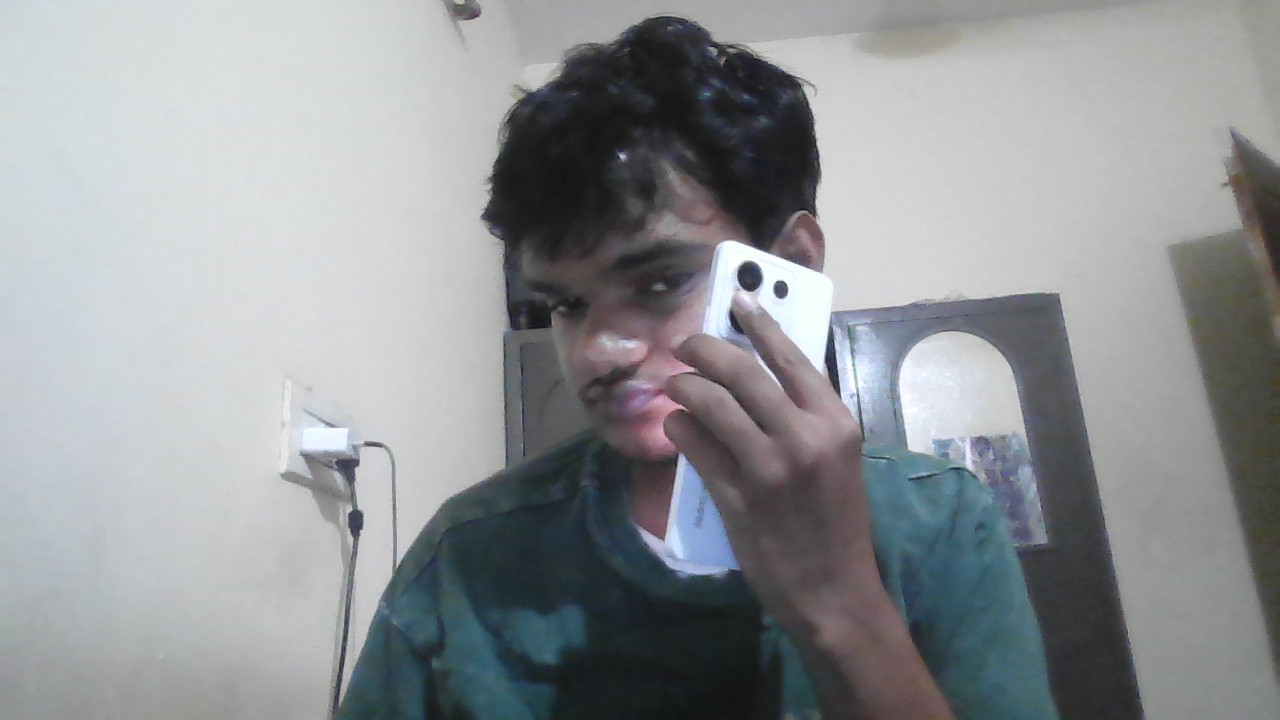phone: (698, 238, 832, 369)
